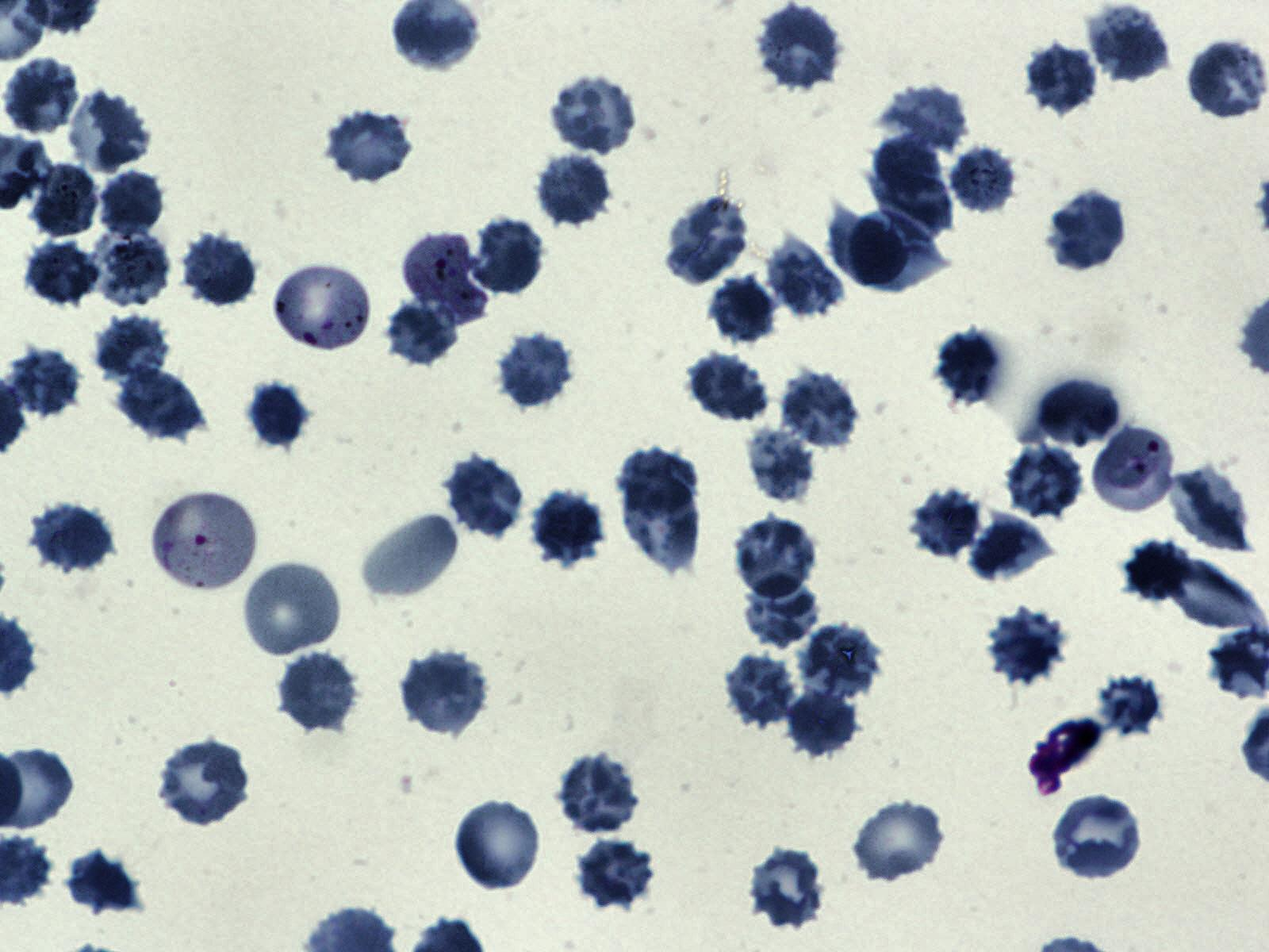Infected: (157, 489, 258, 594), (271, 259, 374, 354), (403, 231, 490, 327), (1093, 424, 1175, 513)
Uninfected: (243, 559, 343, 658), (362, 509, 462, 600), (454, 797, 544, 892), (625, 470, 704, 573), (852, 798, 947, 883), (157, 740, 250, 825), (1052, 795, 1143, 881), (63, 89, 151, 176), (89, 223, 174, 311), (847, 214, 945, 290), (735, 516, 819, 601), (401, 651, 487, 734), (799, 619, 882, 703), (673, 198, 748, 290), (758, 6, 842, 88), (550, 77, 637, 155), (327, 109, 415, 186), (1175, 466, 1249, 555), (30, 498, 112, 577), (1187, 40, 1269, 118), (117, 365, 202, 440), (279, 651, 357, 732), (738, 570, 819, 648), (556, 754, 638, 831), (767, 236, 843, 319), (861, 169, 951, 239), (964, 516, 1059, 582), (781, 371, 859, 451), (827, 204, 904, 284), (448, 455, 523, 537), (687, 351, 769, 425), (573, 837, 656, 910), (749, 850, 827, 927), (94, 309, 170, 388), (1052, 192, 1127, 272), (1005, 444, 1085, 518), (988, 609, 1065, 685), (1093, 7, 1168, 84), (23, 236, 100, 311), (787, 681, 861, 759), (723, 653, 798, 729), (473, 217, 546, 294), (182, 235, 259, 308), (1035, 379, 1121, 444), (531, 489, 604, 565), (947, 140, 1018, 218), (7, 56, 78, 133), (880, 86, 971, 146), (620, 450, 696, 521), (63, 846, 139, 917), (500, 334, 573, 407), (538, 154, 611, 226), (1026, 43, 1098, 116), (5, 347, 77, 420), (30, 163, 98, 239), (934, 327, 999, 406), (385, 303, 462, 369), (97, 168, 167, 240), (911, 486, 981, 557), (746, 425, 812, 500), (245, 376, 312, 448), (1121, 540, 1190, 606), (873, 131, 940, 196), (711, 277, 773, 343), (1098, 674, 1160, 735)
